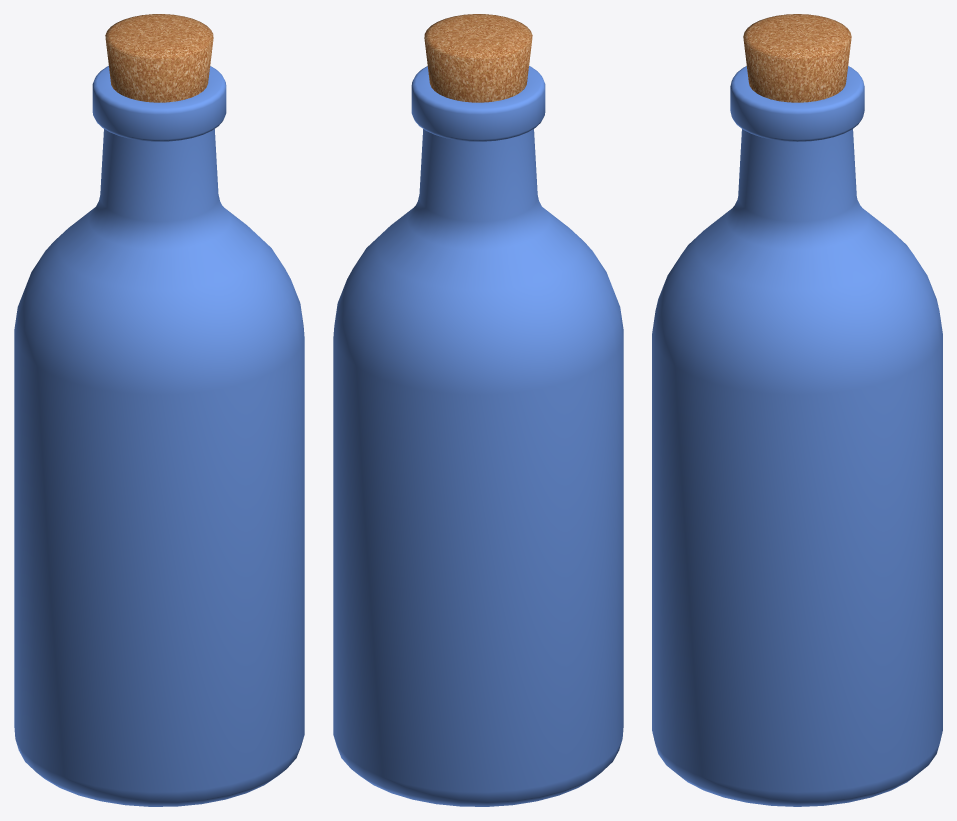
File: Bottle.fbx
The picture shows the model from 3 angles, left to right: view 1: azimuth 30°, elevation 25°; view 2: azimuth 150°, elevation 25°; view 3: azimuth 270°, elevation 25°; orthographic projection.
Visible parts, largest first — view 1: Bottle, Cork; view 2: Bottle, Cork; view 3: Bottle, Cork.
Part boxes in pixels (x1,y1,x2,y2): Bottle: [14, 66, 304, 806]; Cork: [105, 14, 213, 102]; Bottle: [333, 66, 623, 806]; Cork: [424, 14, 532, 102]; Bottle: [652, 66, 942, 806]; Cork: [743, 14, 851, 102].
Size of the model in its own units: 11.78 by 32.36 by 11.78.
